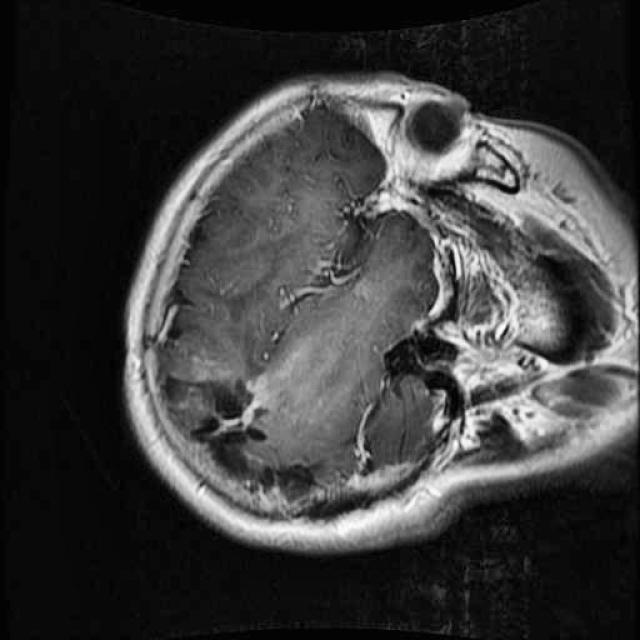Non-Tumor: (148, 356, 341, 531)
